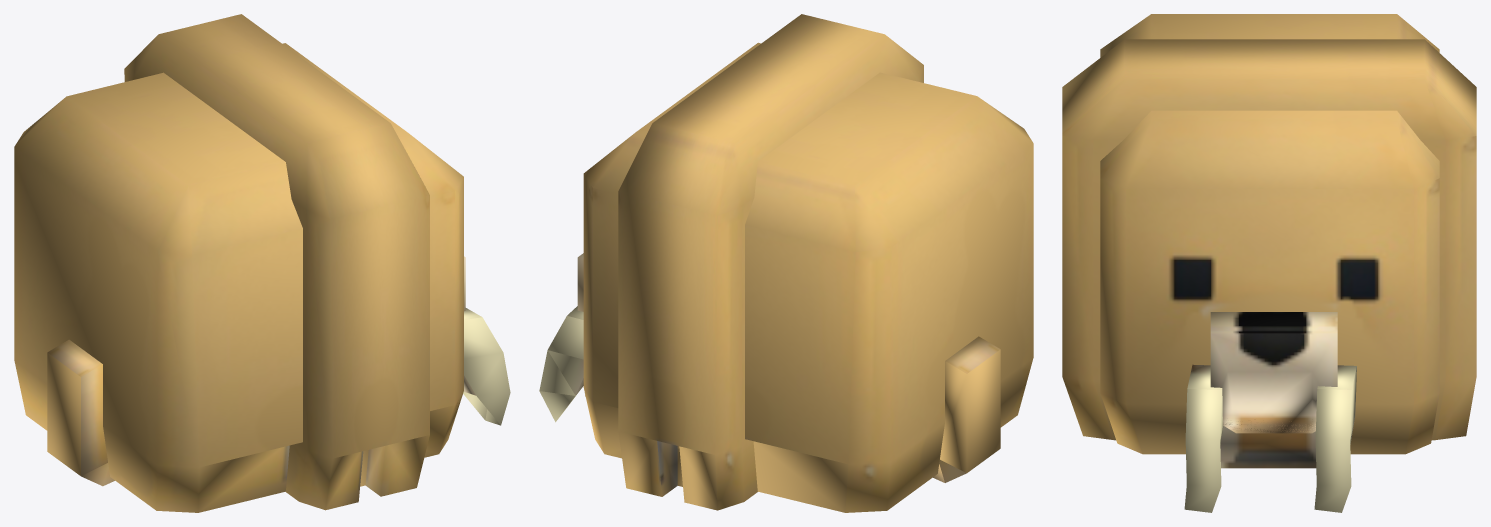
File: lion.glb
3 views of the same model, side by side, from view 1: azimuth 30°, elevation 25°; view 2: azimuth 150°, elevation 25°; view 3: azimuth 270°, elevation 25° (orthographic).
Visible parts, largest first — view 1: 1.007, 1.009, 2.007, 6.005; view 2: 1.007, 1.009, 2.007, 6.006; view 3: 1.007, 1.009, 3.007, 6.006, 6.005, 4.007.
Boxes of the visible parts, left/top/right/bottom form: 1.007: left=14, top=43, right=463, bottom=512; 1.009: left=124, top=14, right=429, bottom=510; 2.007: left=47, top=339, right=114, bottom=486; 6.005: left=463, top=308, right=510, bottom=425; 1.007: left=583, top=42, right=1033, bottom=512; 1.009: left=618, top=14, right=923, bottom=510; 2.007: left=933, top=336, right=1000, bottom=482; 6.006: left=539, top=306, right=583, bottom=422; 1.007: left=1100, top=14, right=1439, bottom=454; 1.009: left=1062, top=39, right=1476, bottom=440; 3.007: left=1210, top=312, right=1337, bottom=433; 6.006: left=1314, top=365, right=1356, bottom=512; 6.005: left=1184, top=364, right=1223, bottom=512; 4.007: left=1220, top=426, right=1316, bottom=468.
Size of the model in its own units: 0.1086 by 0.093 by 0.0956.
1 material, 1 textured.
